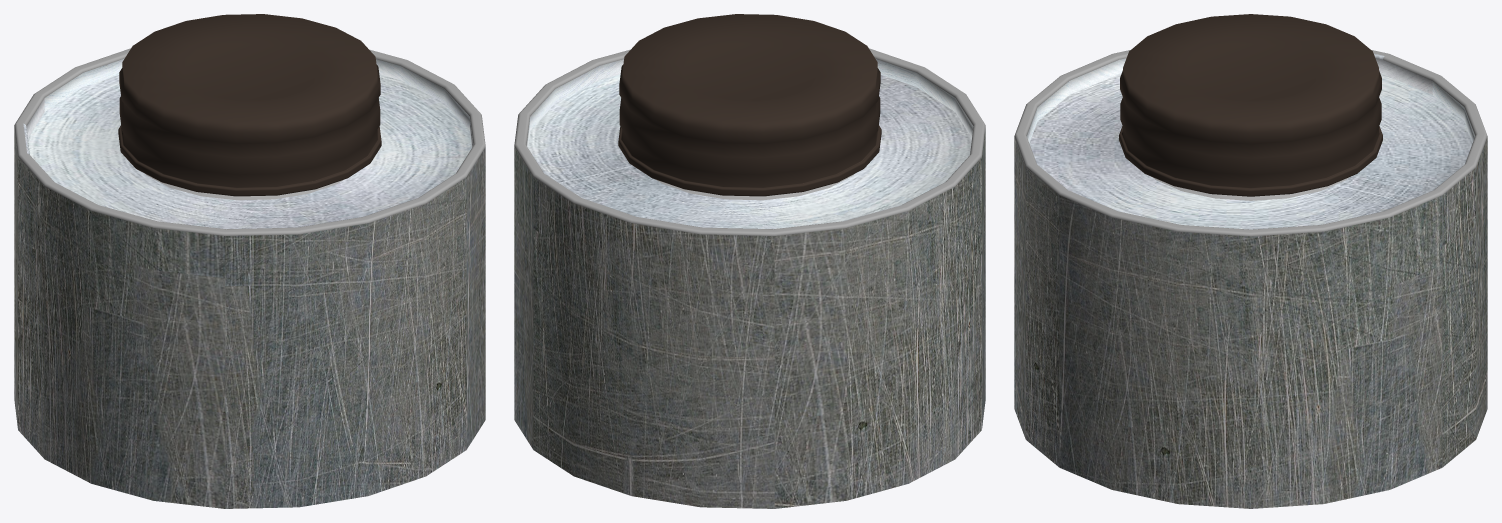
File: OilCanister.fbx
3 views of the same model, side by side, from view 1: azimuth 30°, elevation 25°; view 2: azimuth 150°, elevation 25°; view 3: azimuth 270°, elevation 25° (orthographic).
Parts seen in each view (by area): view 1: polySurface1; view 2: polySurface1; view 3: polySurface1.
Part boxes in pixels (x1=…): polySurface1: x1=14, y1=14, x2=485, y2=508; polySurface1: x1=514, y1=14, x2=985, y2=508; polySurface1: x1=1014, y1=14, x2=1487, y2=508.
Size of the model in its own units: 2 by 1.59 by 2.
4 materials, 2 textured.
